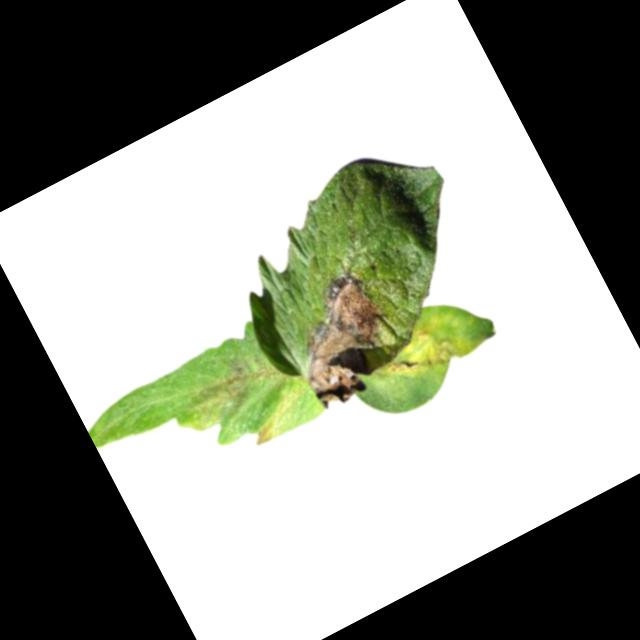Late_blight: (270, 260, 414, 411), (179, 339, 286, 430), (374, 316, 464, 391), (239, 380, 317, 446)
